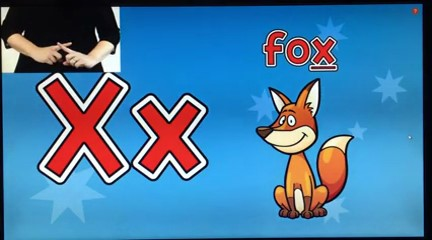X: (34, 38, 90, 71)
